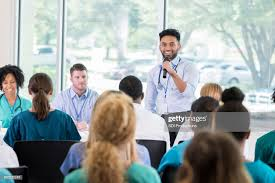Indian_Male: (157, 25, 184, 63)
